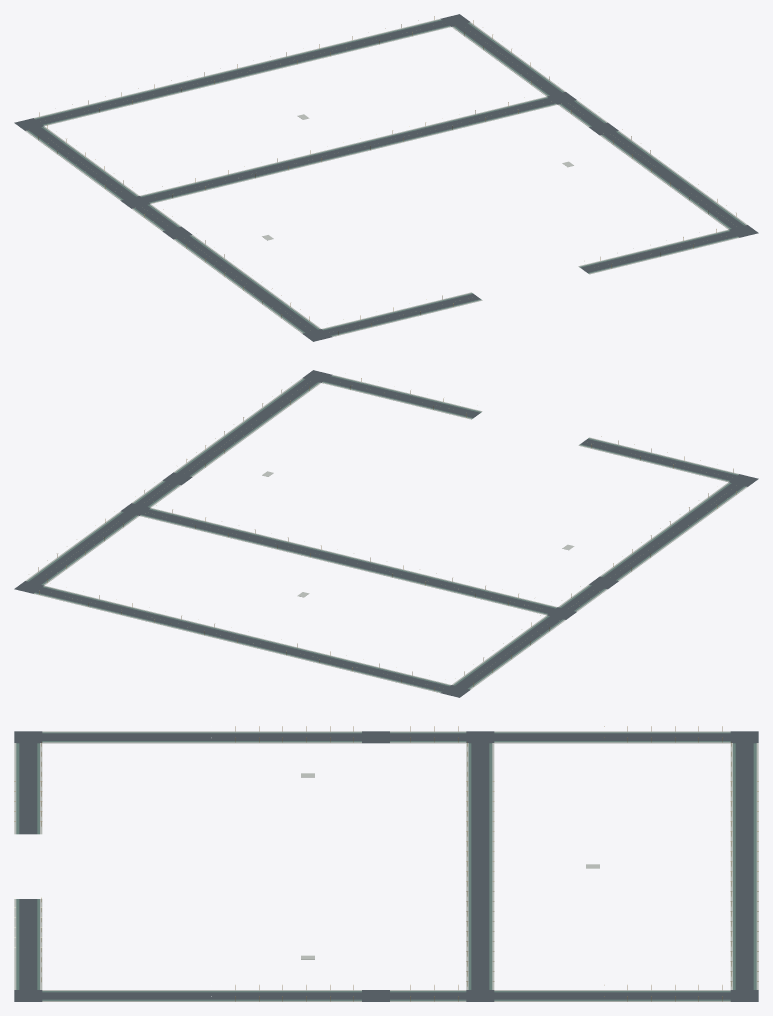
File: cbd-streets.glb
3 views of the same model, one above another, from view 1: azimuth 30°, elevation 25°; view 2: azimuth 150°, elevation 25°; view 3: azimuth 270°, elevation 25° (orthographic). The views are drawn at different scales.
Parts seen in each view (by area): view 1: GC-CBD-STREET-001; view 2: GC-CBD-STREET-001; view 3: GC-CBD-STREET-001.
Part boxes in pixels (left/top/right/bottom): GC-CBD-STREET-001: left=14, top=14, right=758, bottom=341; GC-CBD-STREET-001: left=14, top=370, right=758, bottom=697; GC-CBD-STREET-001: left=14, top=726, right=758, bottom=1001.
Size of the model in its own units: 921 by 8.21 by 1071.
